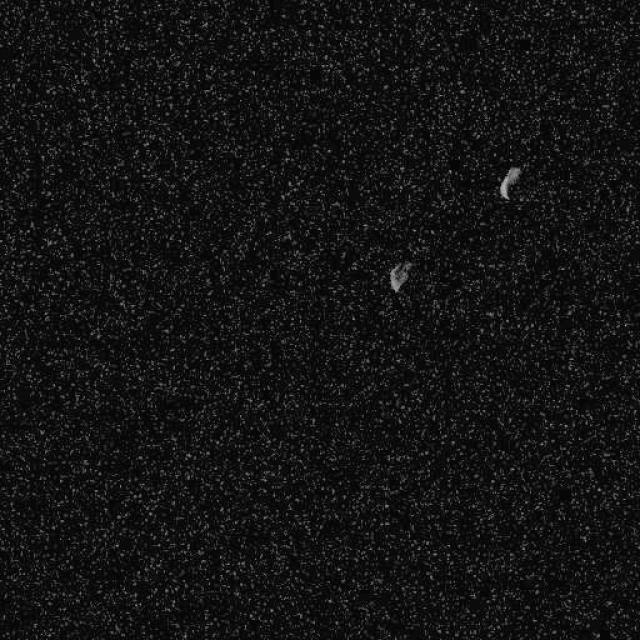D2: (498, 165, 522, 201), (388, 258, 412, 292)
